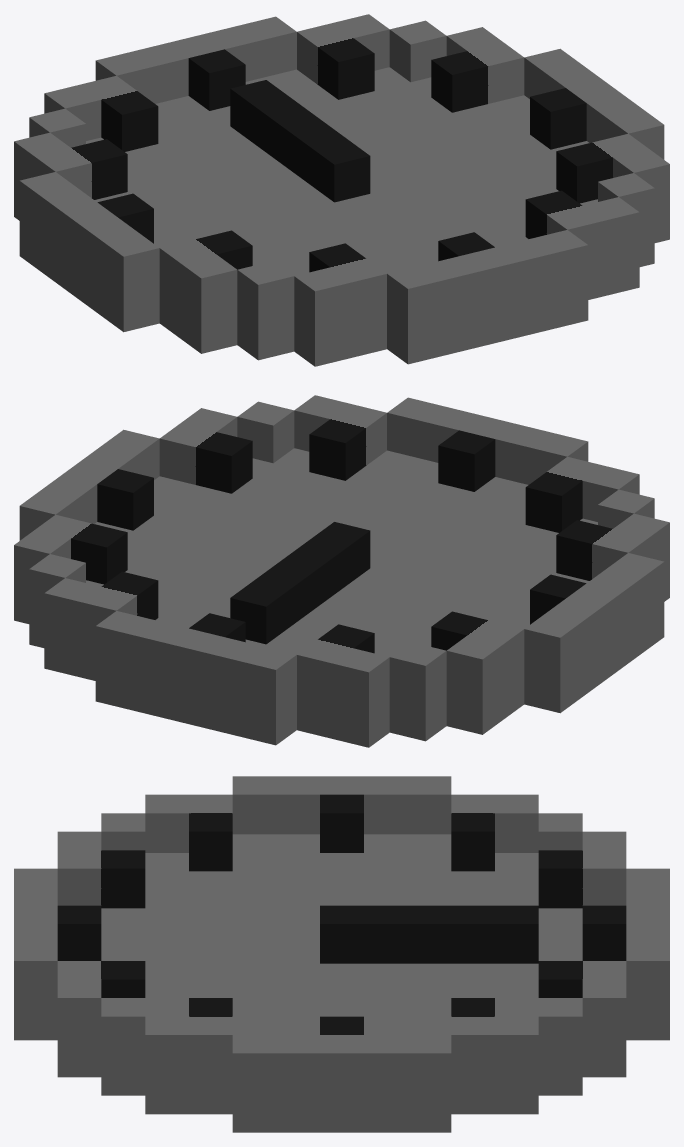
File: clock.dae
The picture shows the model from 3 angles, top to bottom: view 1: azimuth 30°, elevation 25°; view 2: azimuth 150°, elevation 25°; view 3: azimuth 270°, elevation 25°; orthographic projection. The views are drawn at different scales.
Parts seen in each view (by area): view 1: clock; view 2: clock; view 3: clock.
Boxes of the visible parts, box(x1,y1,x2,y2) form: clock: box(14, 14, 669, 366); clock: box(14, 395, 669, 747); clock: box(14, 776, 669, 1132).
Size of the model in its own units: 1.5 by 0.2 by 1.5.
Materials: 1 (1 with a texture image).
